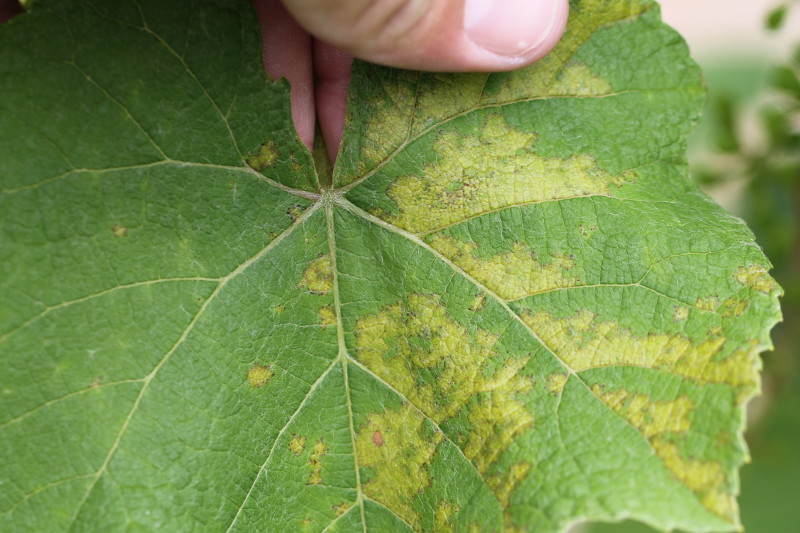downy: (284, 264, 553, 533), (568, 283, 747, 462), (370, 88, 531, 249), (537, 116, 673, 252), (581, 4, 674, 97), (667, 463, 737, 533), (160, 226, 228, 294), (234, 354, 279, 399), (74, 362, 119, 407), (99, 209, 143, 253), (243, 135, 282, 174), (738, 251, 768, 281)
